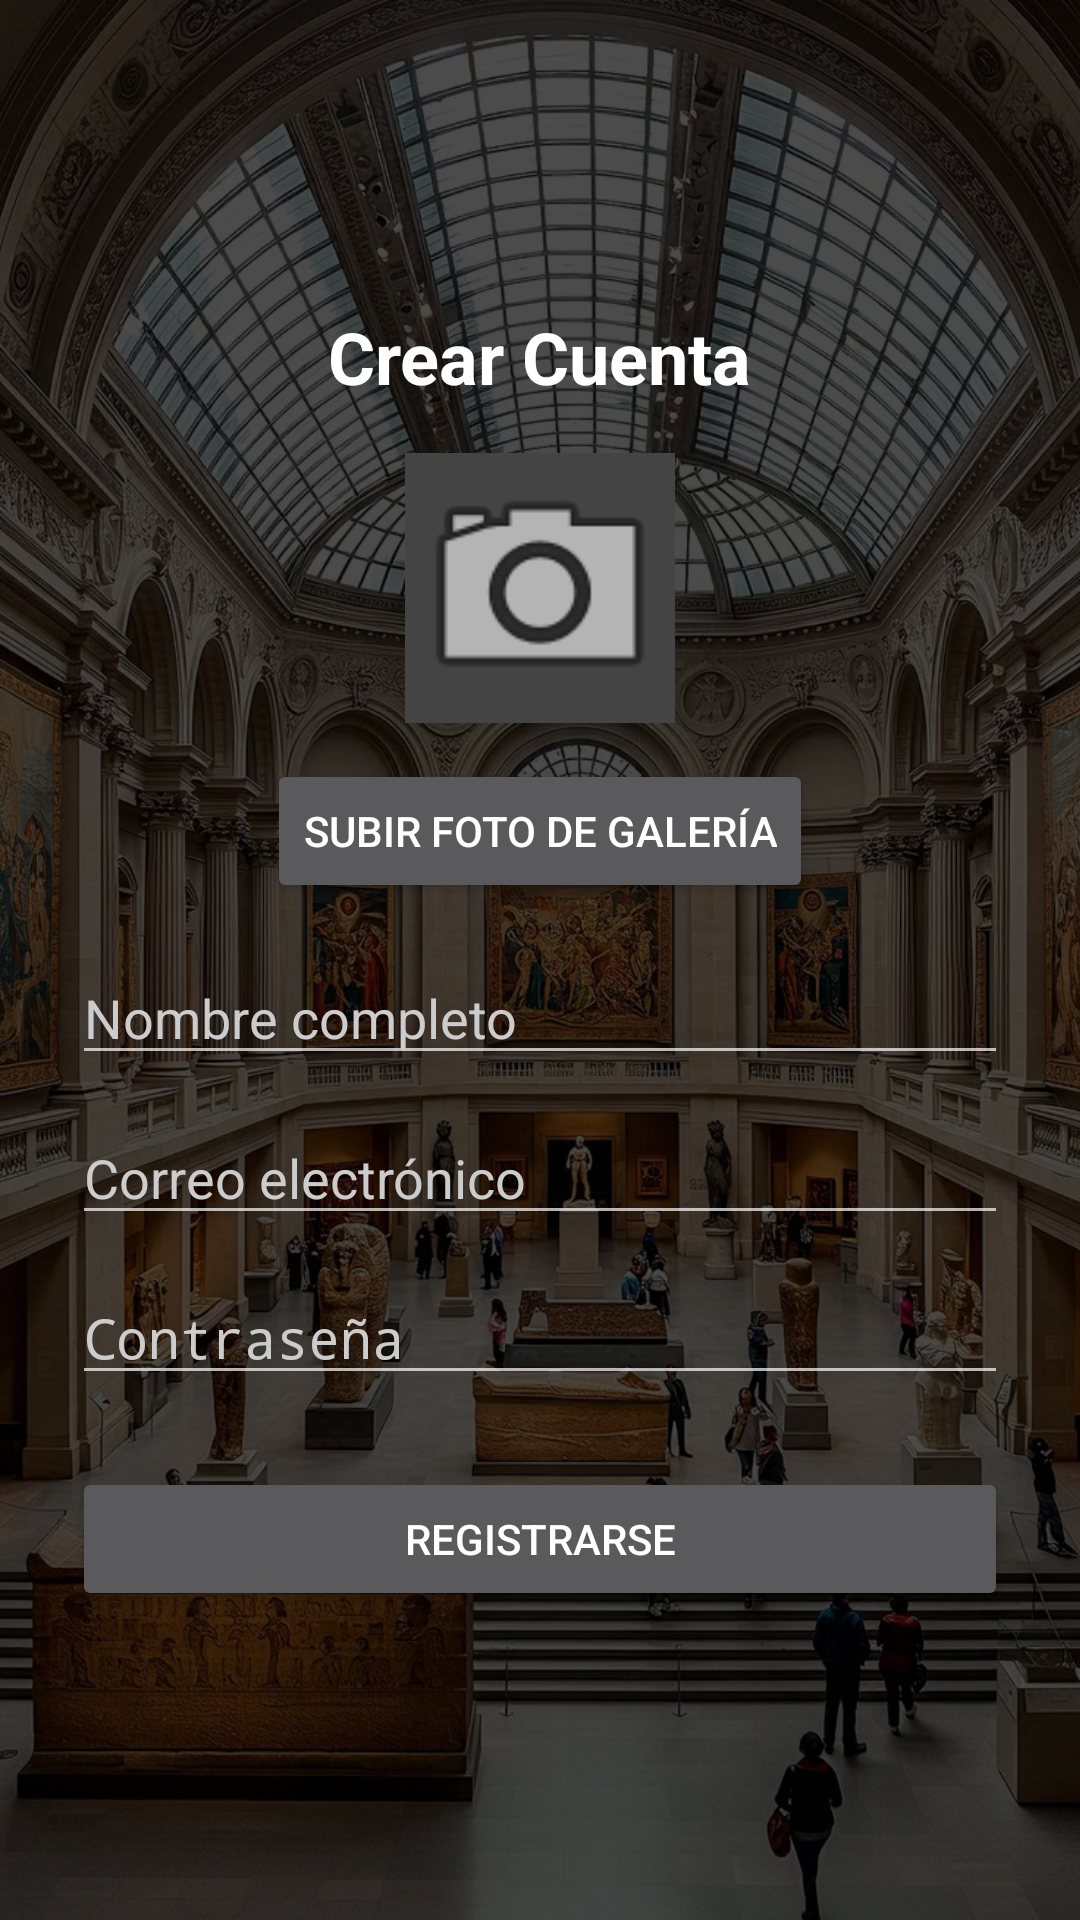

Point at icon controls on the screen. Image size 1080w x 1920h, points as point (x, y).
camera: point (540, 588)
